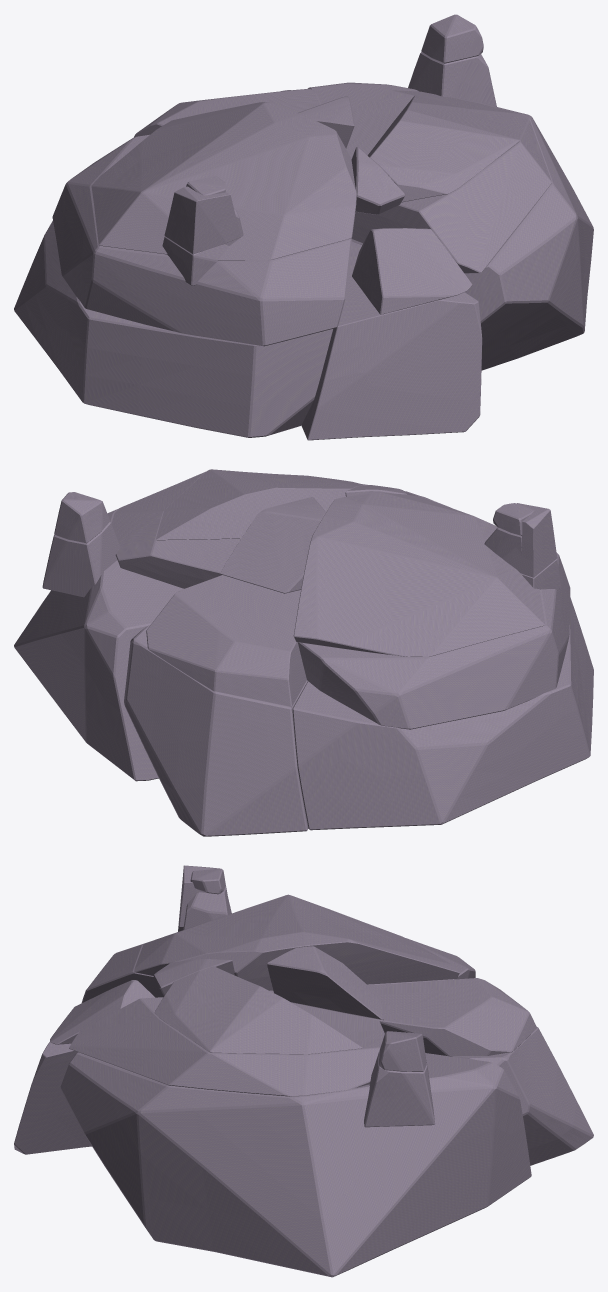
The model's file is MG01_Hand_Rock_S02.fbx.
The picture shows the model from 3 angles, top to bottom: view 1: azimuth 30°, elevation 25°; view 2: azimuth 150°, elevation 25°; view 3: azimuth 270°, elevation 25°; orthographic projection. The views are drawn at different scales.
Parts seen in each view (by area): view 1: MG01HR_S02_8, MG01HR_S02_0, MG01HR_S02_4, MG01HR_S02_1, MG01HR_S02_3, MG01HR_S02_7, MG01HR_S02_11, MG01HR_S02_5, MG01HR_S02_crag1_1, MG01HR_S02_crag0_0, MG01HR_S02_6, MG01HR_S02_crag0_1 (+4 smaller); view 2: MG01HR_S02_0, MG01HR_S02_8, MG01HR_S02_2, MG01HR_S02_4, MG01HR_S02_3, MG01HR_S02_6, MG01HR_S02_11, MG01HR_S02_7, MG01HR_S02_10, MG01HR_S02_crag0_0, MG01HR_S02_crag1_1, MG01HR_S02_crag0_1 (+3 smaller); view 3: MG01HR_S02_3, MG01HR_S02_7, MG01HR_S02_8, MG01HR_S02_11, MG01HR_S02_6, MG01HR_S02_2, MG01HR_S02_10, MG01HR_S02_1, MG01HR_S02_crag0_0, MG01HR_S02_4, MG01HR_S02_5, MG01HR_S02_crag0_1 (+4 smaller).
Boxes of the visible parts, x1,y1,x2,y2 form: MG01HR_S02_8: (91,102,356,260); MG01HR_S02_0: (14,221,332,437); MG01HR_S02_4: (52,134,351,346); MG01HR_S02_1: (301,241,482,440); MG01HR_S02_3: (307,82,593,370); MG01HR_S02_7: (346,90,551,273); MG01HR_S02_11: (367,95,519,202); MG01HR_S02_5: (352,228,472,314); MG01HR_S02_crag1_1: (164,186,240,254); MG01HR_S02_crag0_0: (408,52,496,106); MG01HR_S02_6: (134,88,321,137); MG01HR_S02_crag0_1: (421,14,483,63); MG01HR_S02_0: (292,597,593,830); MG01HR_S02_8: (293,493,545,656); MG01HR_S02_2: (124,625,308,836); MG01HR_S02_4: (298,553,570,729); MG01HR_S02_3: (14,509,183,781); MG01HR_S02_6: (146,575,306,707); MG01HR_S02_11: (156,469,365,540); MG01HR_S02_7: (111,471,368,588); MG01HR_S02_10: (220,497,325,593); MG01HR_S02_crag0_0: (42,522,120,597); MG01HR_S02_crag1_1: (502,503,557,577); MG01HR_S02_crag0_1: (54,492,109,543); MG01HR_S02_3: (60,1052,531,1277); MG01HR_S02_7: (69,997,384,1096); MG01HR_S02_8: (134,894,459,990); MG01HR_S02_11: (154,966,362,1054); MG01HR_S02_6: (270,978,536,1056); MG01HR_S02_2: (451,1026,593,1165); MG01HR_S02_10: (266,946,383,1020); MG01HR_S02_1: (14,1041,91,1154); MG01HR_S02_crag0_0: (364,1051,434,1127); MG01HR_S02_4: (81,938,475,1002); MG01HR_S02_5: (50,980,154,1044); MG01HR_S02_crag0_1: (379,1031,426,1071).
Bounding box in the file's own units: 1121 × 429 × 1069.
